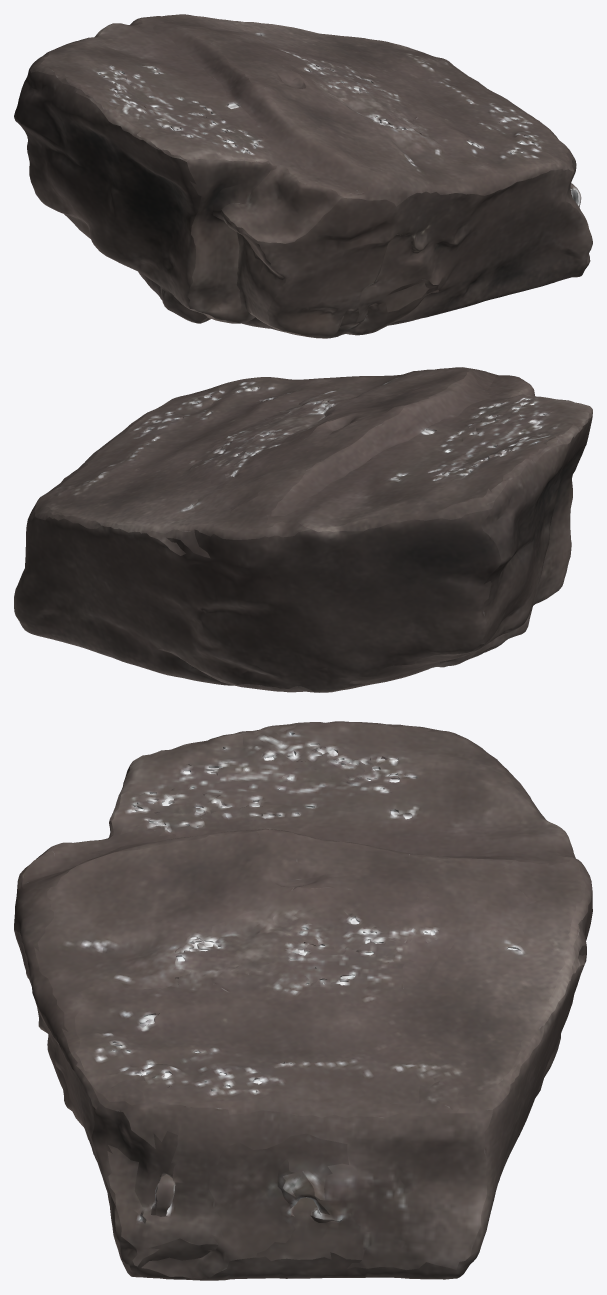
The picture shows the model from 3 angles, top to bottom: view 1: azimuth 30°, elevation 25°; view 2: azimuth 150°, elevation 25°; view 3: azimuth 270°, elevation 25°; orthographic projection. The views are drawn at different scales.
Visible parts, largest first — view 1: world; view 2: world; view 3: world.
Part boxes in pixels (x1,y1,x2,y2): world: (14, 14, 592, 338); world: (14, 367, 592, 692); world: (14, 721, 592, 1280).
Size of the model in its own units: 0.45 by 0.2204 by 0.3897.
Materials: 1 (1 with a texture image).
